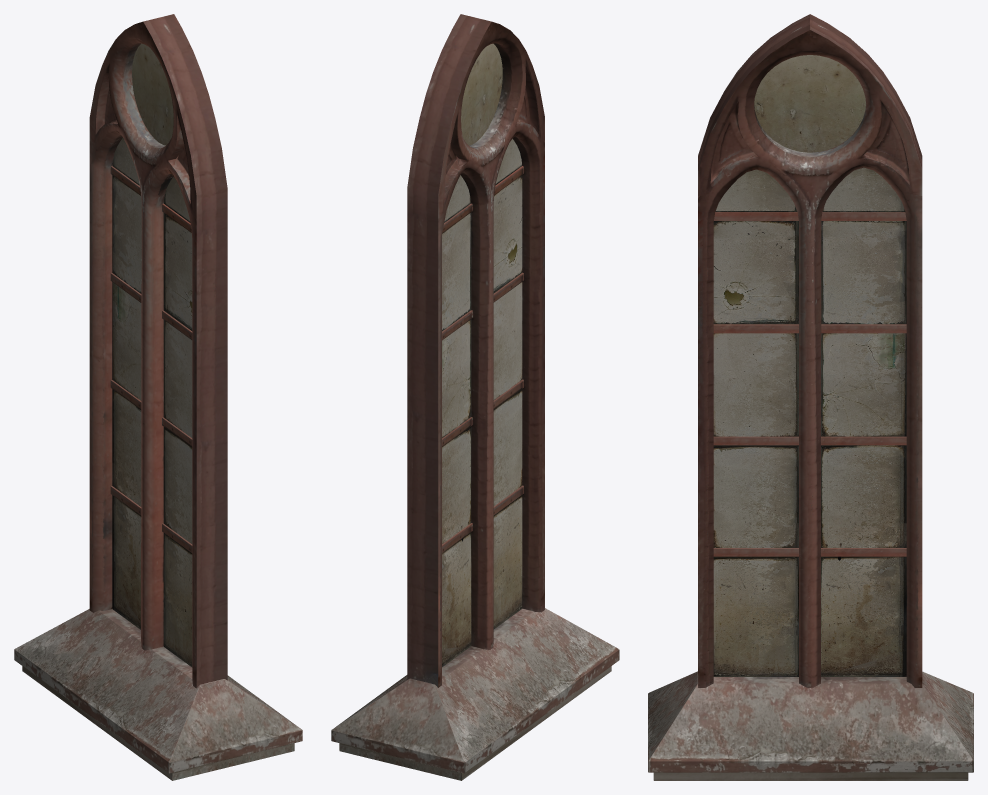
File: sm_Window_01_02.fbx
3 renders of one model, left to right at view 1: azimuth 30°, elevation 25°; view 2: azimuth 150°, elevation 25°; view 3: azimuth 270°, elevation 25°, orthographic. The views are drawn at different scales.
Parts seen in each view (by area): view 1: sm_Window_01_02_LOD0; view 2: sm_Window_01_02_LOD0; view 3: sm_Window_01_02_LOD0.
Part boxes in pixels (<box>): sm_Window_01_02_LOD0: <box>14,14,302,780</box>; sm_Window_01_02_LOD0: <box>331,14,619,780</box>; sm_Window_01_02_LOD0: <box>648,14,973,780</box>.
Bounding box in the file's own units: 84.22 × 169 × 418.
